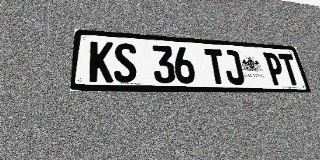3: (152, 45, 176, 83)
6: (172, 46, 196, 84)
J: (222, 50, 245, 85)
K: (89, 41, 113, 82)
P: (263, 52, 287, 85)
S: (114, 42, 137, 83)
T: (204, 48, 228, 84), (278, 53, 302, 86)
